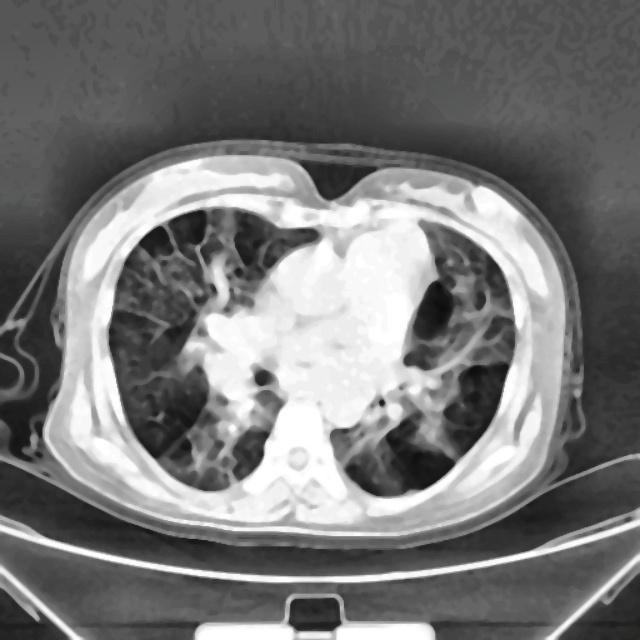covid: (31, 140, 587, 549)
